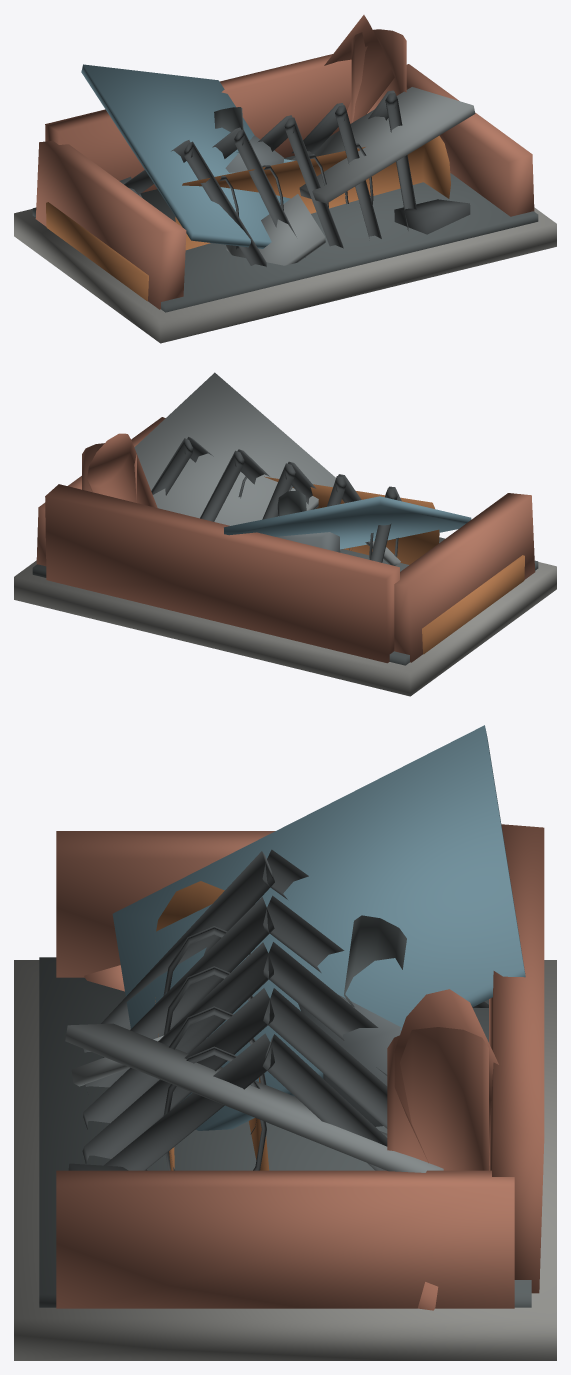
The model's file is foundry-wreck.glb.
3 renders of one model, top to bottom at view 1: azimuth 30°, elevation 25°; view 2: azimuth 150°, elevation 25°; view 3: azimuth 270°, elevation 25°, orthographic. The views are drawn at different scales.
Parts seen in each view (by area): view 1: world; view 2: world; view 3: world.
Part boxes in pixels (<box>): world: <box>14,15,556,343</box>; world: <box>14,372,556,696</box>; world: <box>14,725,556,1360</box>.
Bounding box in the file's own units: 25 × 10.6 × 16.
